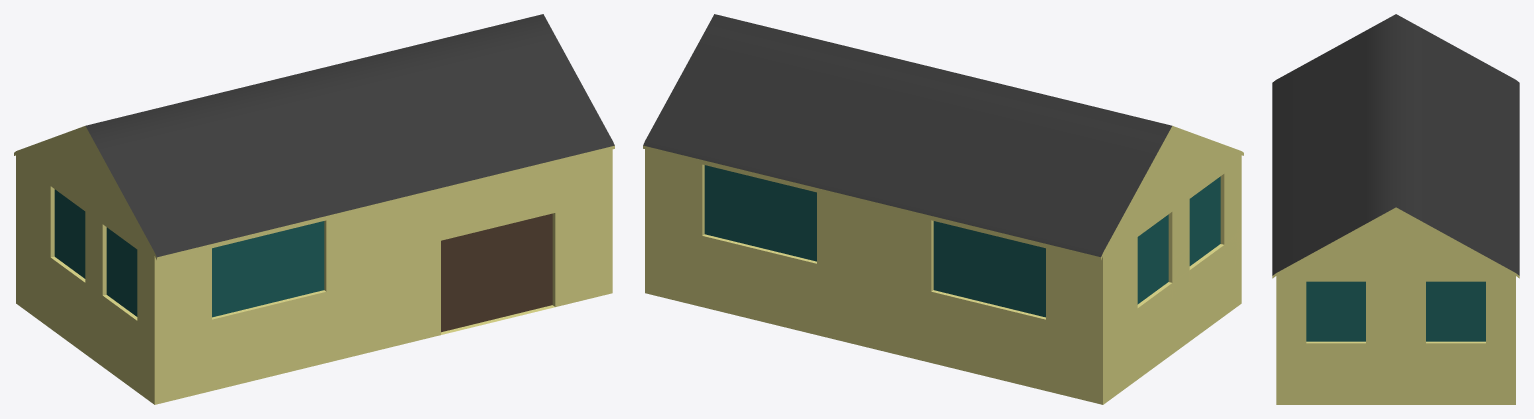
Rendered from House2-4.fbx.
3 views of the same model, side by side, from view 1: azimuth 30°, elevation 25°; view 2: azimuth 150°, elevation 25°; view 3: azimuth 270°, elevation 25° (orthographic). The views are drawn at different scales.
Visible parts, largest first — view 1: pCube1.003; view 2: pCube1.003; view 3: pCube1.003.
Part boxes in pixels (x1,y1,x2,y2): pCube1.003: (14,14,614,404); pCube1.003: (643,14,1243,404); pCube1.003: (1272,14,1519,404).
Bounding box in the file's own units: 23.9 × 11.4 × 12.91.
